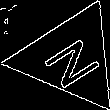N_NE: (34, 27, 105, 89)
